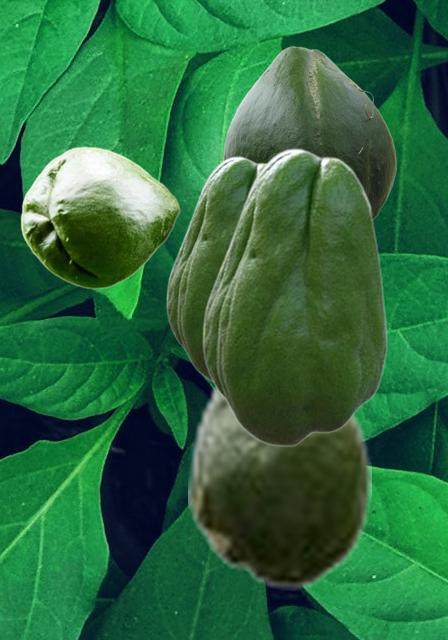sayote: (202, 148, 387, 446), (188, 375, 370, 590), (223, 46, 395, 219), (20, 146, 179, 288), (166, 156, 265, 382)
